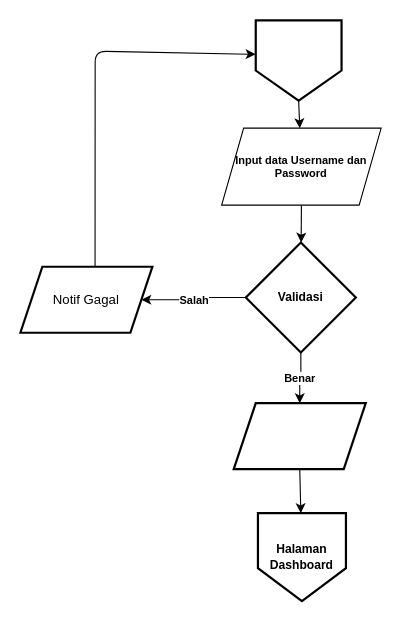
The diagram is 400 pixels wide and 620 high, and some of its shapes have lost their labels. The shapes that lost their labels are listed below. From the top down, each one's centre as x and y in pixels, then its label:
the point at 298,60: Login
the point at 299,436: Notif Berhasil
